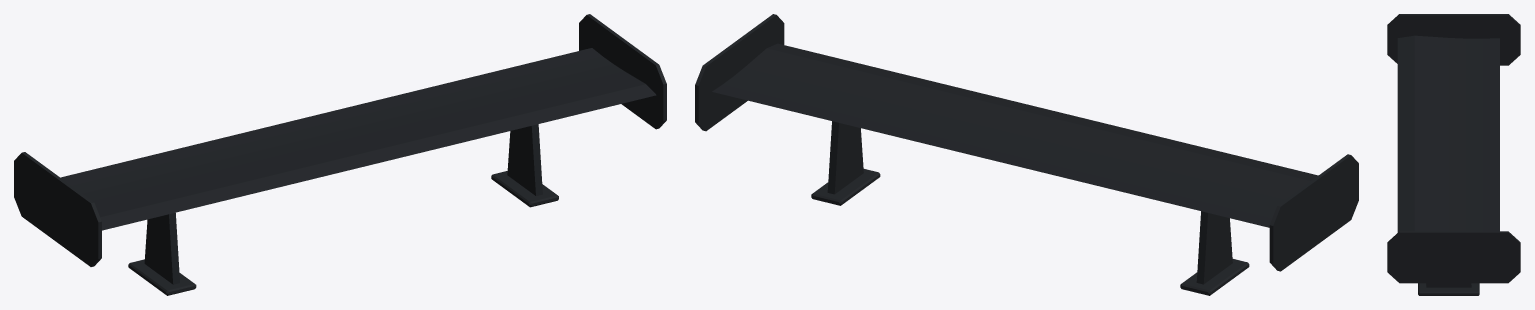
The model's file is ridgeback_4x4.glb.
The picture shows the model from 3 angles, left to right: view 1: azimuth 30°, elevation 25°; view 2: azimuth 150°, elevation 25°; view 3: azimuth 270°, elevation 25°; orthographic projection. The views are drawn at different scales.
Parts seen in each view (by area): view 1: wing_element, model; view 2: wing_element, model; view 3: wing_element, model.
Part boxes in pixels (box(x1,y1,x2,y2)): wing_element: box(14, 14, 666, 266); model: box(128, 124, 558, 295); wing_element: box(695, 14, 1358, 271); model: box(811, 121, 1249, 295); wing_element: box(1387, 14, 1520, 283); model: box(1418, 283, 1479, 295).
Size of the model in its own units: 1.32 by 0.2732 by 0.338.
Materials: 1 (1 with a texture image).
